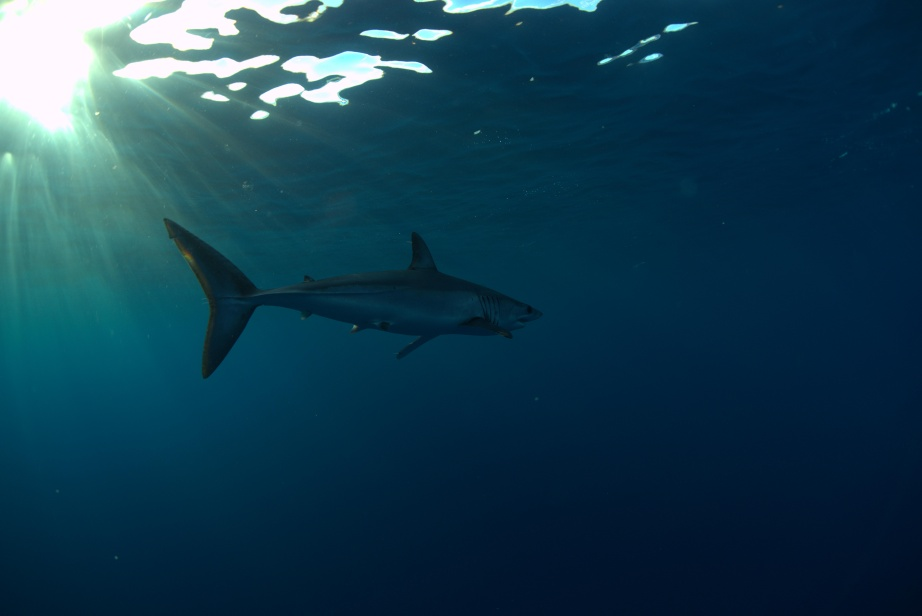Mako: (131, 182, 555, 383)
